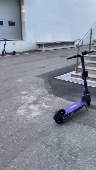beam: (51, 49, 95, 125), (1, 36, 16, 57)
